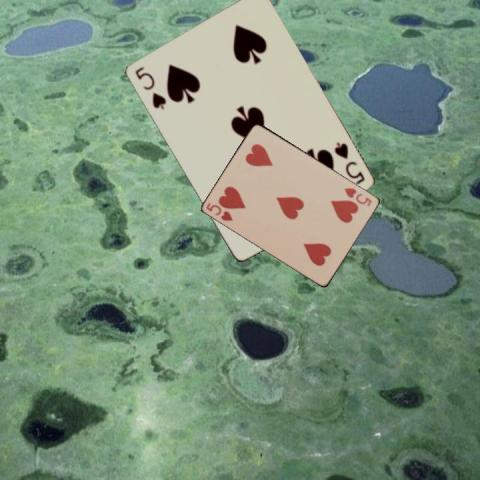5h: (342, 185, 374, 208), (203, 200, 235, 223)
5s: (132, 63, 168, 112), (331, 139, 366, 186)
